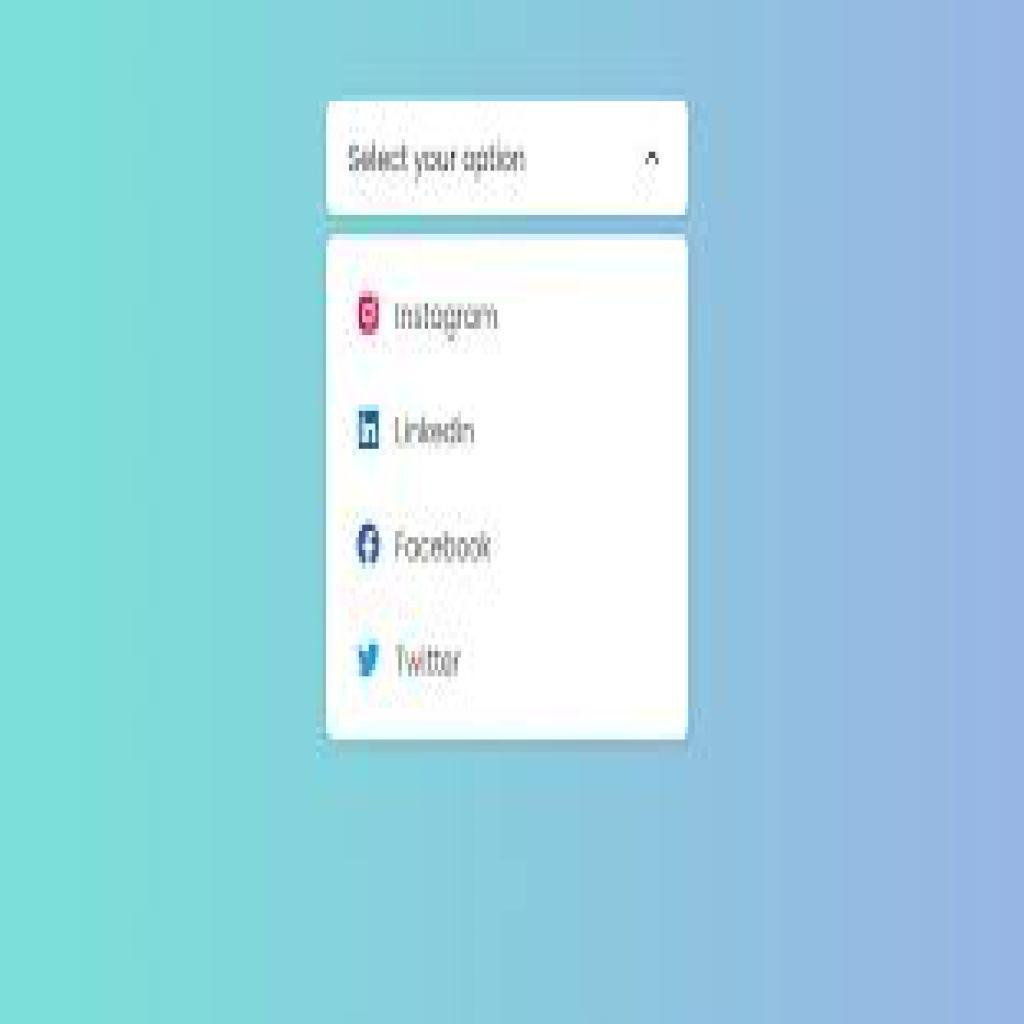dropdown: (326, 105, 689, 216)
icon: (356, 402, 388, 456), (356, 632, 384, 687), (355, 524, 385, 575), (358, 295, 385, 343)
label: (390, 301, 505, 343), (387, 523, 494, 566), (391, 411, 480, 449), (391, 640, 467, 681)
